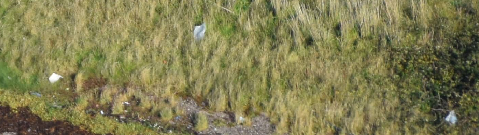white_in_green: (20, 38, 85, 108), (159, 3, 234, 57), (425, 90, 479, 132)
